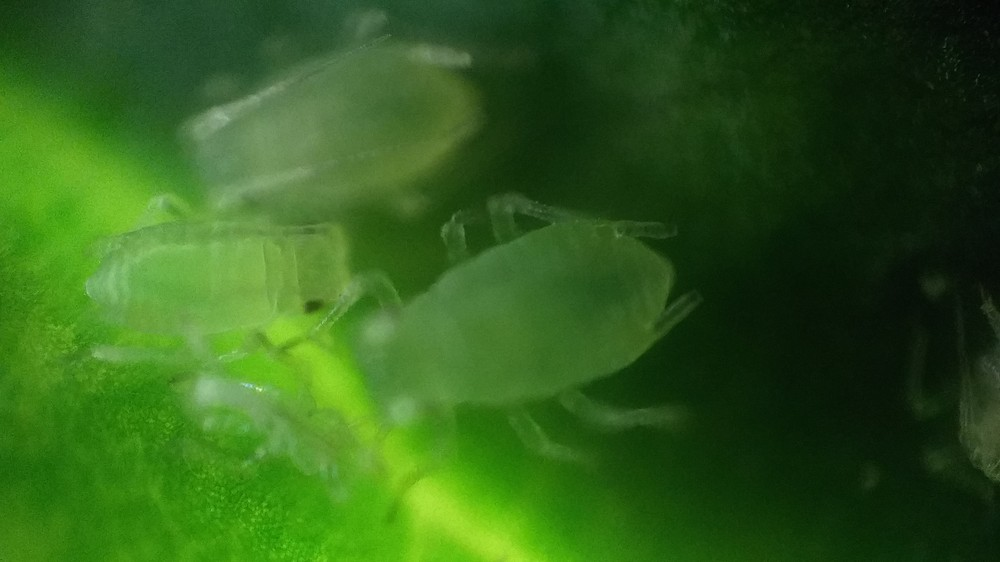Pulgon: (338, 186, 754, 482), (162, 21, 503, 237), (77, 184, 385, 400)
